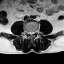CCS_normal: (30, 29, 32, 38)
LFS_normal: (34, 28, 36, 35)
LLS_normal: (32, 29, 34, 36)
RFS_normal: (26, 29, 28, 35)
RLS_normal: (28, 29, 30, 36)
